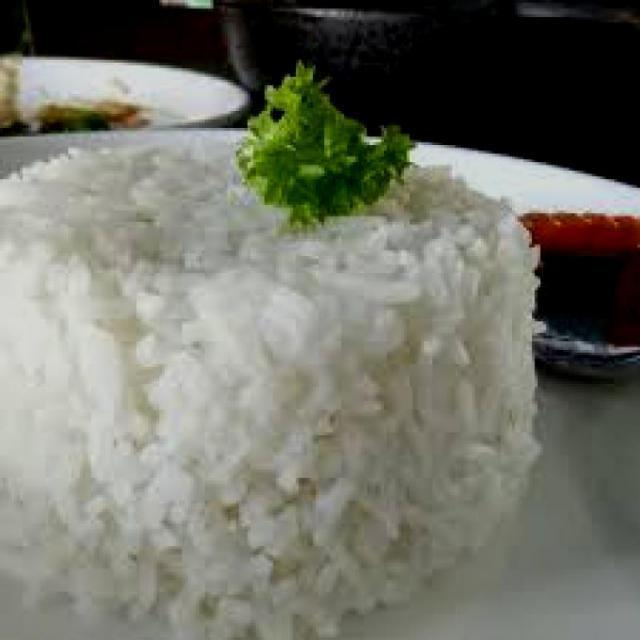Chicken -Chicken Inasal-: (0, 149, 530, 639)
